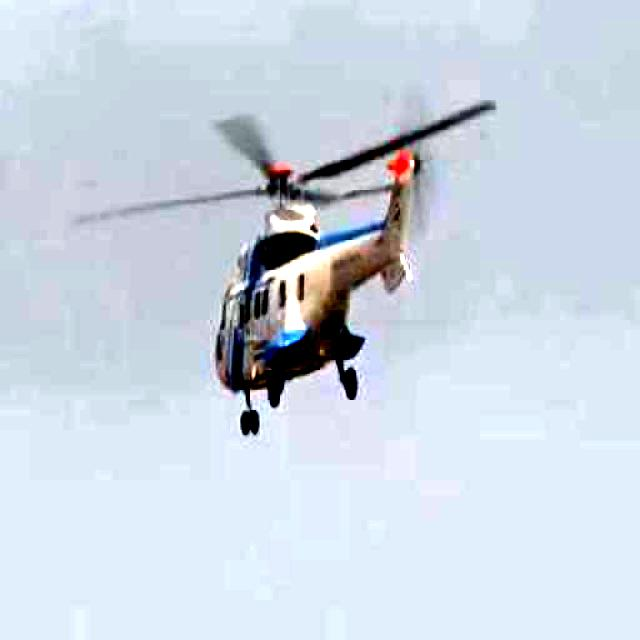drone: (55, 55, 535, 449)
